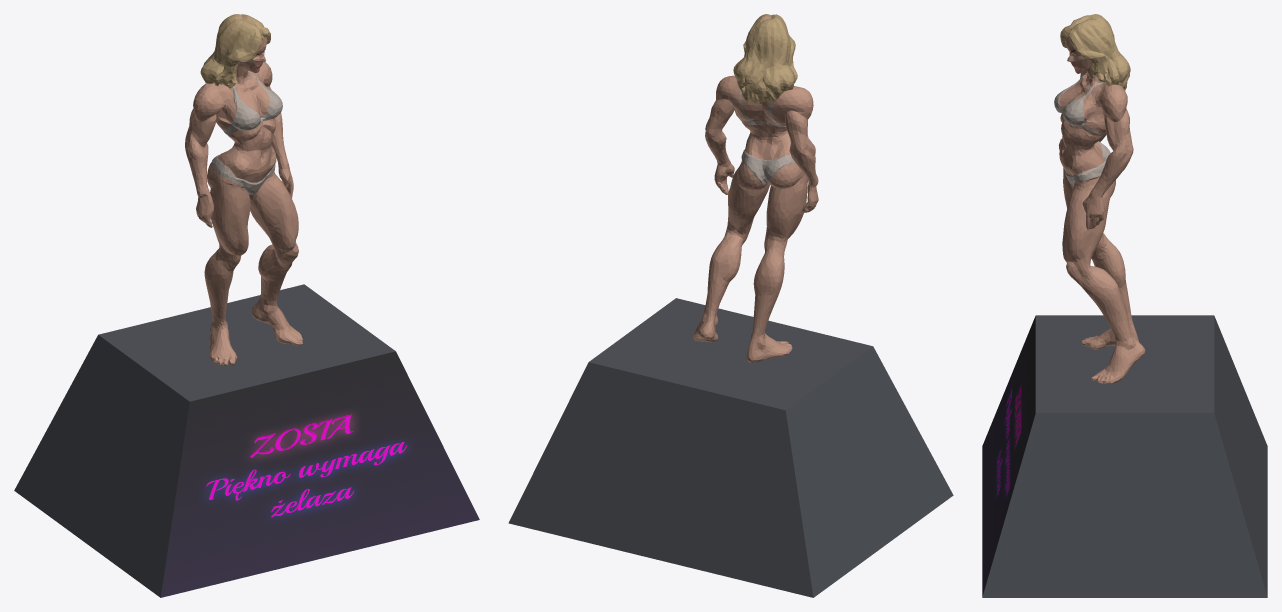
File: blond.gltf
The picture shows the model from 3 angles, left to right: view 1: azimuth 30°, elevation 25°; view 2: azimuth 150°, elevation 25°; view 3: azimuth 270°, elevation 25°; orthographic projection. The views are drawn at different scales.
Parts seen in each view (by area): view 1: another_stand2.005; view 2: another_stand2.005; view 3: another_stand2.005.
Boxes of the visible parts, bbox=[...] form: another_stand2.005: bbox=[14, 14, 479, 597]; another_stand2.005: bbox=[508, 14, 953, 597]; another_stand2.005: bbox=[982, 14, 1267, 597].
Bounding box in the file's own units: 1.94 × 2.94 × 1.54.
Materials: 7 (1 with a texture image).
